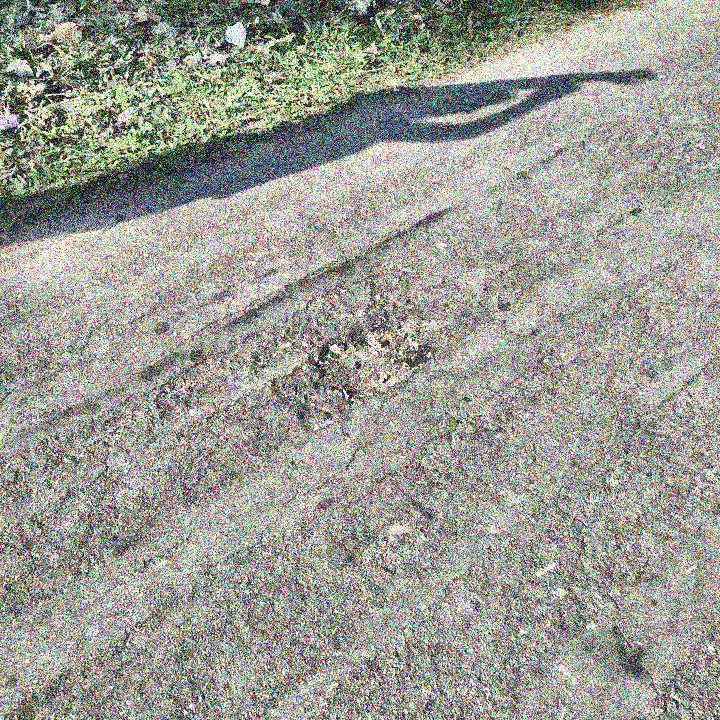pothole: (311, 322, 423, 402)
